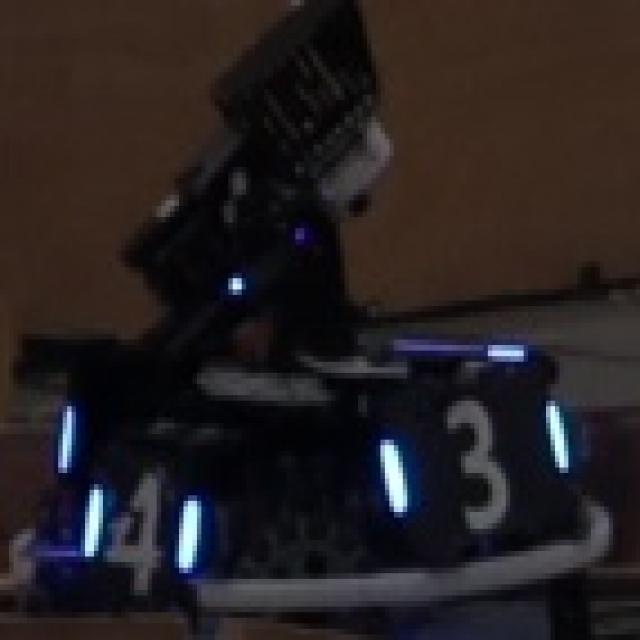B3: (376, 384, 568, 534)
B4: (76, 467, 201, 590)
